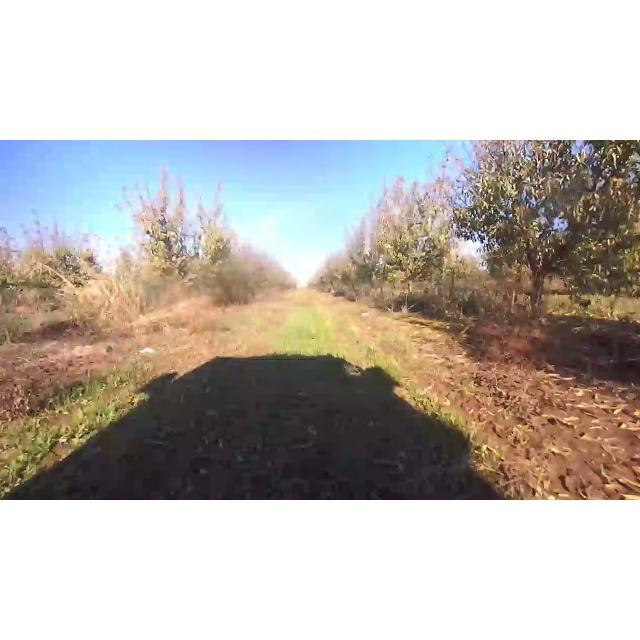direk: (434, 140, 640, 324), (118, 160, 214, 308), (357, 175, 455, 303)
